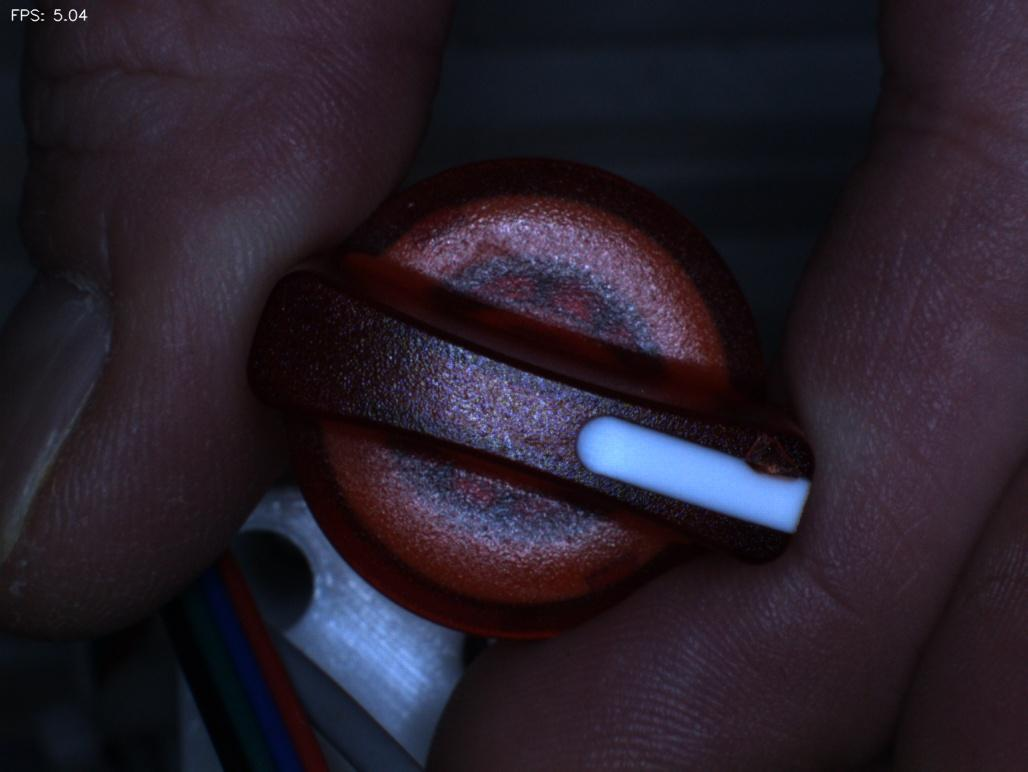Choc: (729, 405, 828, 506)
